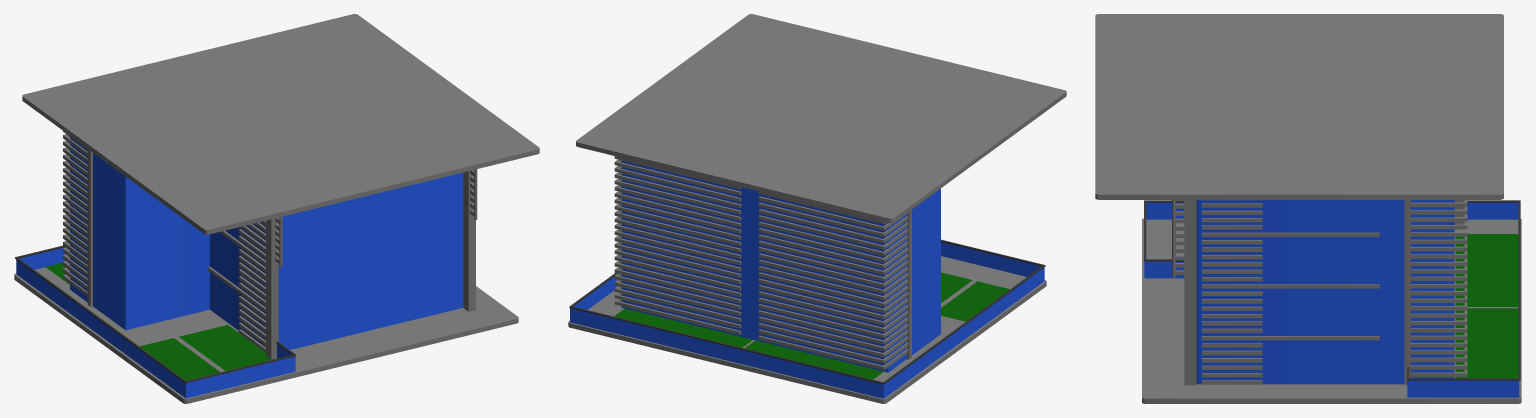
Rendered from SM_B_Mate_Floor_02.fbx.
3 renders of one model, left to right at view 1: azimuth 30°, elevation 25°; view 2: azimuth 150°, elevation 25°; view 3: azimuth 270°, elevation 25°, orthographic. The views are drawn at different scales.
Parts seen in each view (by area): view 1: SM_B_Mate_Floor_02; view 2: SM_B_Mate_Floor_02; view 3: SM_B_Mate_Floor_02.
Part boxes in pixels (x1,y1,x2,y2): SM_B_Mate_Floor_02: (14,14,539,403); SM_B_Mate_Floor_02: (568,14,1066,403); SM_B_Mate_Floor_02: (1095,14,1521,403).
Size of the model in its own units: 2101 by 1135 by 2096.
